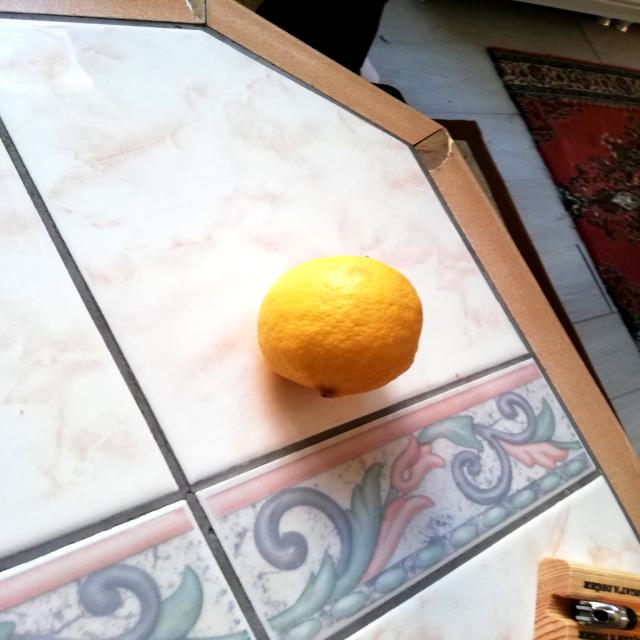lemon: (253, 249, 432, 404)
